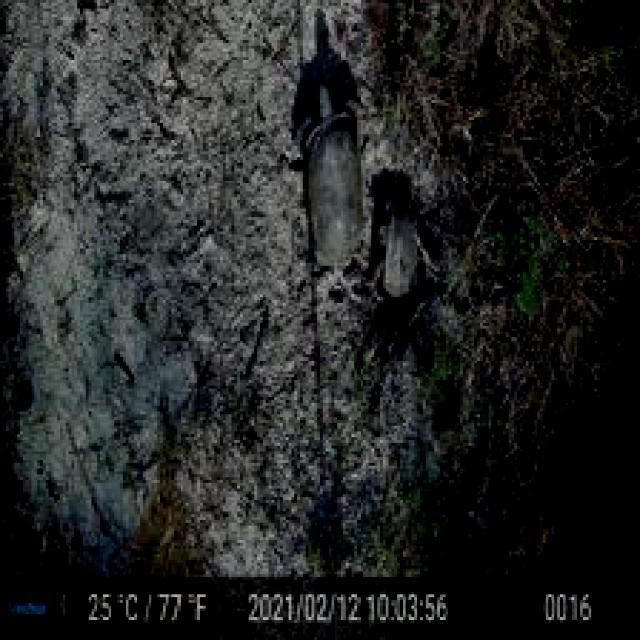tortoise: (291, 80, 365, 274), (372, 189, 429, 317)
